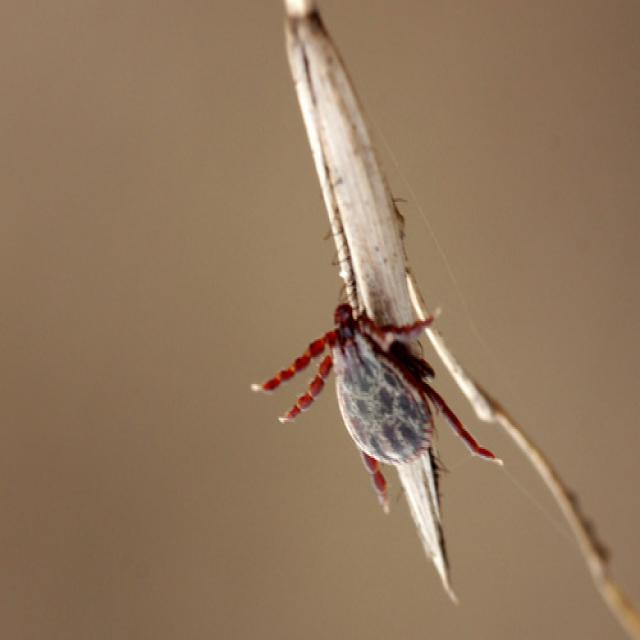Dermacentor Reticulatus-M: (250, 303, 503, 514)
